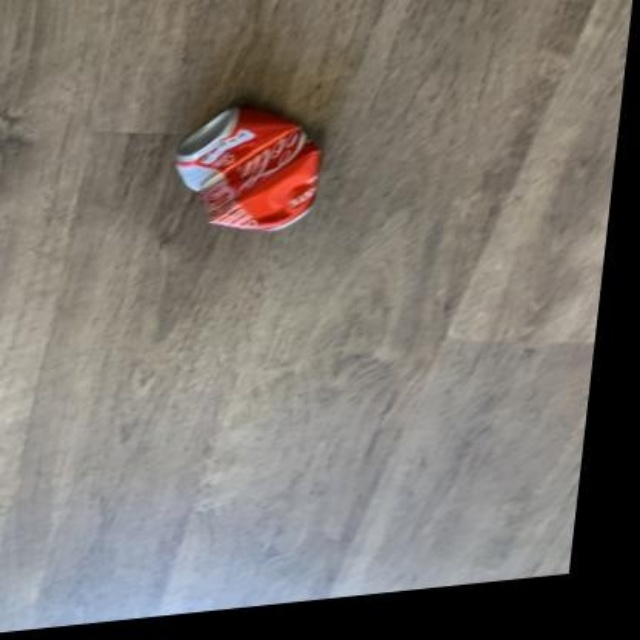trash: (175, 105, 318, 229)
